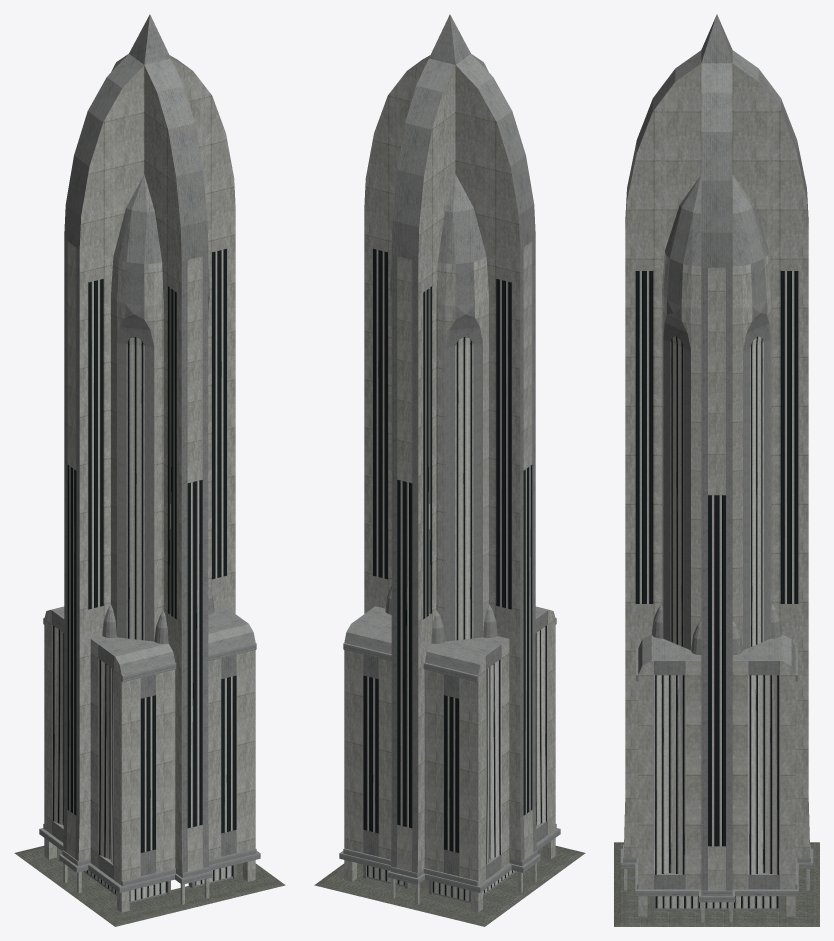
File: thm_corl_skyskraper_s01_r0_mesh_l1.fbx
The picture shows the model from 3 angles, left to right: view 1: azimuth 30°, elevation 25°; view 2: azimuth 150°, elevation 25°; view 3: azimuth 270°, elevation 25°; orthographic projection.
Parts seen in each view (by area): view 1: mesh_node; view 2: mesh_node; view 3: mesh_node.
Boxes of the visible parts, <box> form: mesh_node: <box>14,14,285,926</box>; mesh_node: <box>314,14,585,926</box>; mesh_node: <box>614,14,819,926</box>.
Size of the model in its own units: 43.96 by 210 by 45.09.
